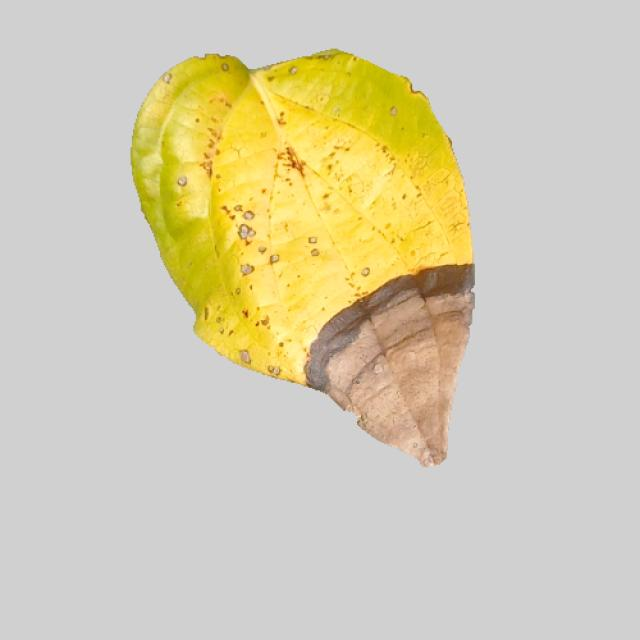leaf-blight: (119, 51, 476, 467)
